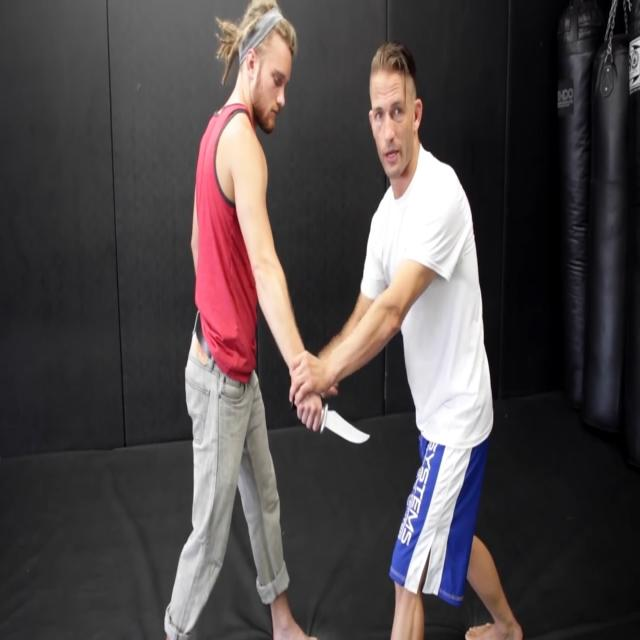knife: (321, 405, 373, 449)
